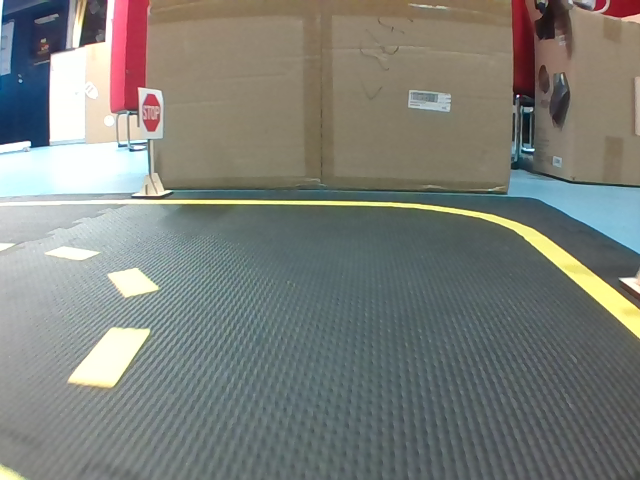no30: (156, 114, 170, 141)
